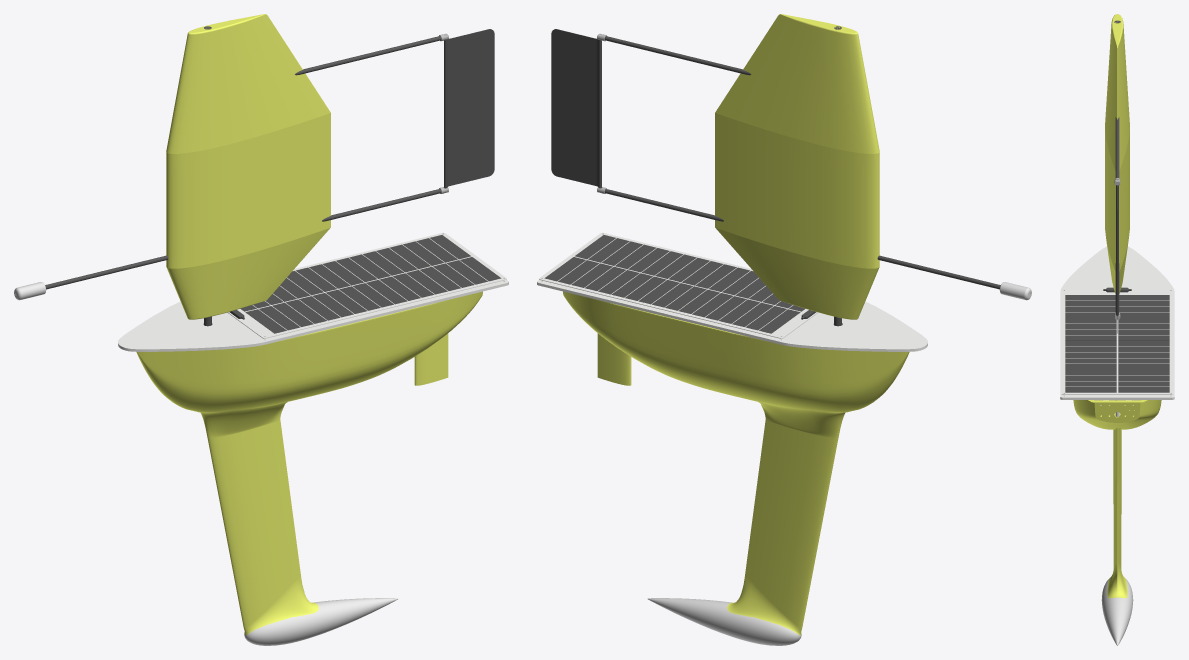
The model's file is boat.opt.glb.
3 renders of one model, left to right at view 1: azimuth 30°, elevation 25°; view 2: azimuth 150°, elevation 25°; view 3: azimuth 270°, elevation 25°, orthographic. The views are drawn at different scales.
Parts seen in each view (by area): view 1: wing, hull, keel, solarCells, tailVane, deck, solarBacking, ballast, rudderBlade, boomTailUpper; view 2: wing, hull, keel, solarCells, tailVane, deck, solarBacking, ballast, rudderBlade, boomTailUpper; view 3: solarCells, wing, deck, solarBacking, hull, keel, ballast, tailVane, boomTailUpper, rudderBlade.
Part boxes in pixels (<box>): wing: <box>166,14,330,319</box>; hull: <box>136,291,482,412</box>; keel: <box>200,402,318,635</box>; solarCells: <box>240,235,501,333</box>; tailVane: <box>444,29,494,187</box>; deck: <box>118,278,508,351</box>; solarBacking: <box>227,232,506,338</box>; ballast: <box>244,598,398,645</box>; rudderBlade: <box>414,333,448,385</box>; boomTailUpper: <box>295,36,441,75</box>; wing: <box>715,14,879,319</box>; hull: <box>563,291,909,412</box>; keel: <box>727,402,845,635</box>; solarCells: <box>544,235,805,333</box>; tailVane: <box>551,29,601,187</box>; deck: <box>537,278,927,351</box>; solarBacking: <box>539,232,818,338</box>; ballast: <box>647,598,801,645</box>; rudderBlade: <box>597,333,631,385</box>; boomTailUpper: <box>604,36,751,75</box>; solarCells: <box>1065,295,1169,392</box>; wing: <box>1105,14,1129,293</box>; deck: <box>1060,246,1174,399</box>; solarBacking: <box>1061,289,1173,394</box>; hull: <box>1073,400,1161,429</box>; keel: <box>1107,429,1127,598</box>; ballast: <box>1101,578,1133,645</box>; tailVane: <box>1116,186,1118,333</box>; boomTailUpper: <box>1115,117,1119,177</box>; rudderBlade: <box>1115,427,1119,483</box>.
Bounding box in the file's own units: 1.71 × 2.17 × 0.405.
